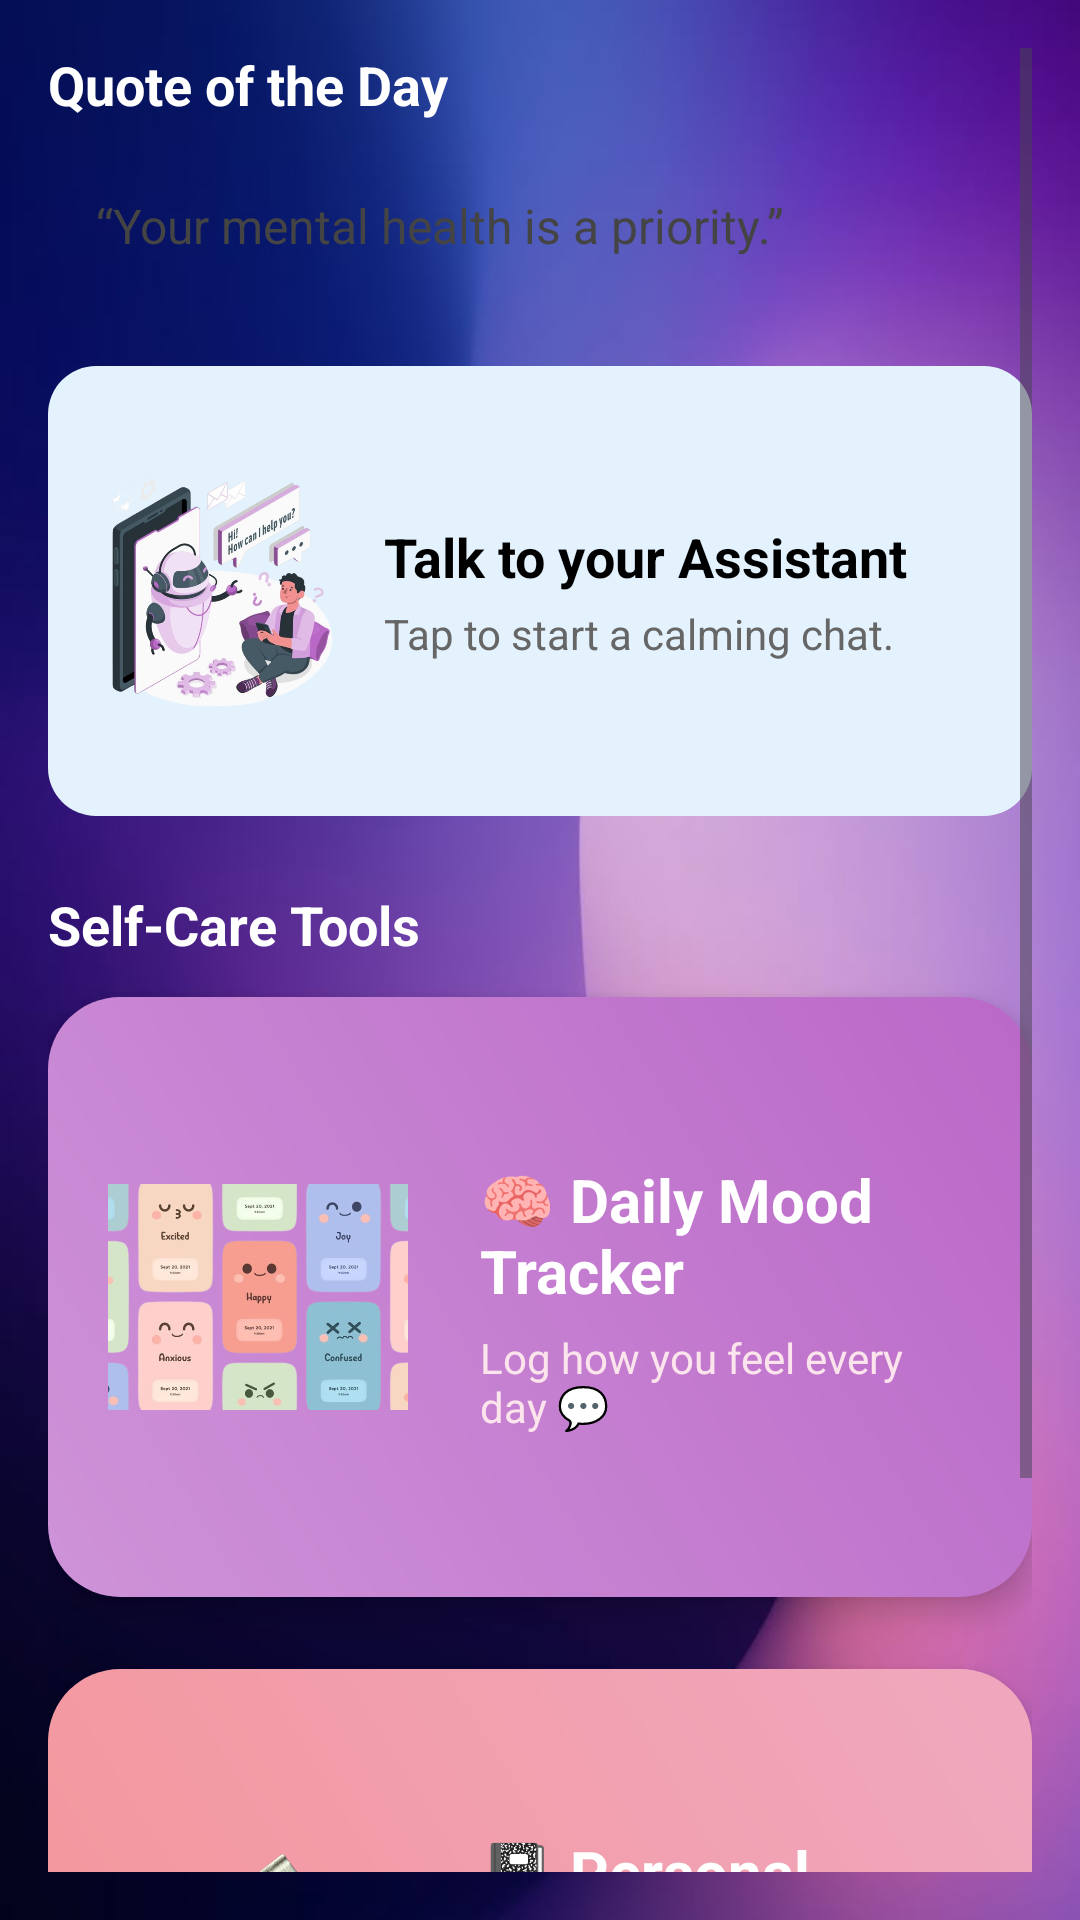

Locate icon controls on the screen. Image size 1080px x 1920px, boxes as (x1, y1, x2, y2).
Chatbot Icon: (112, 478, 332, 706)
